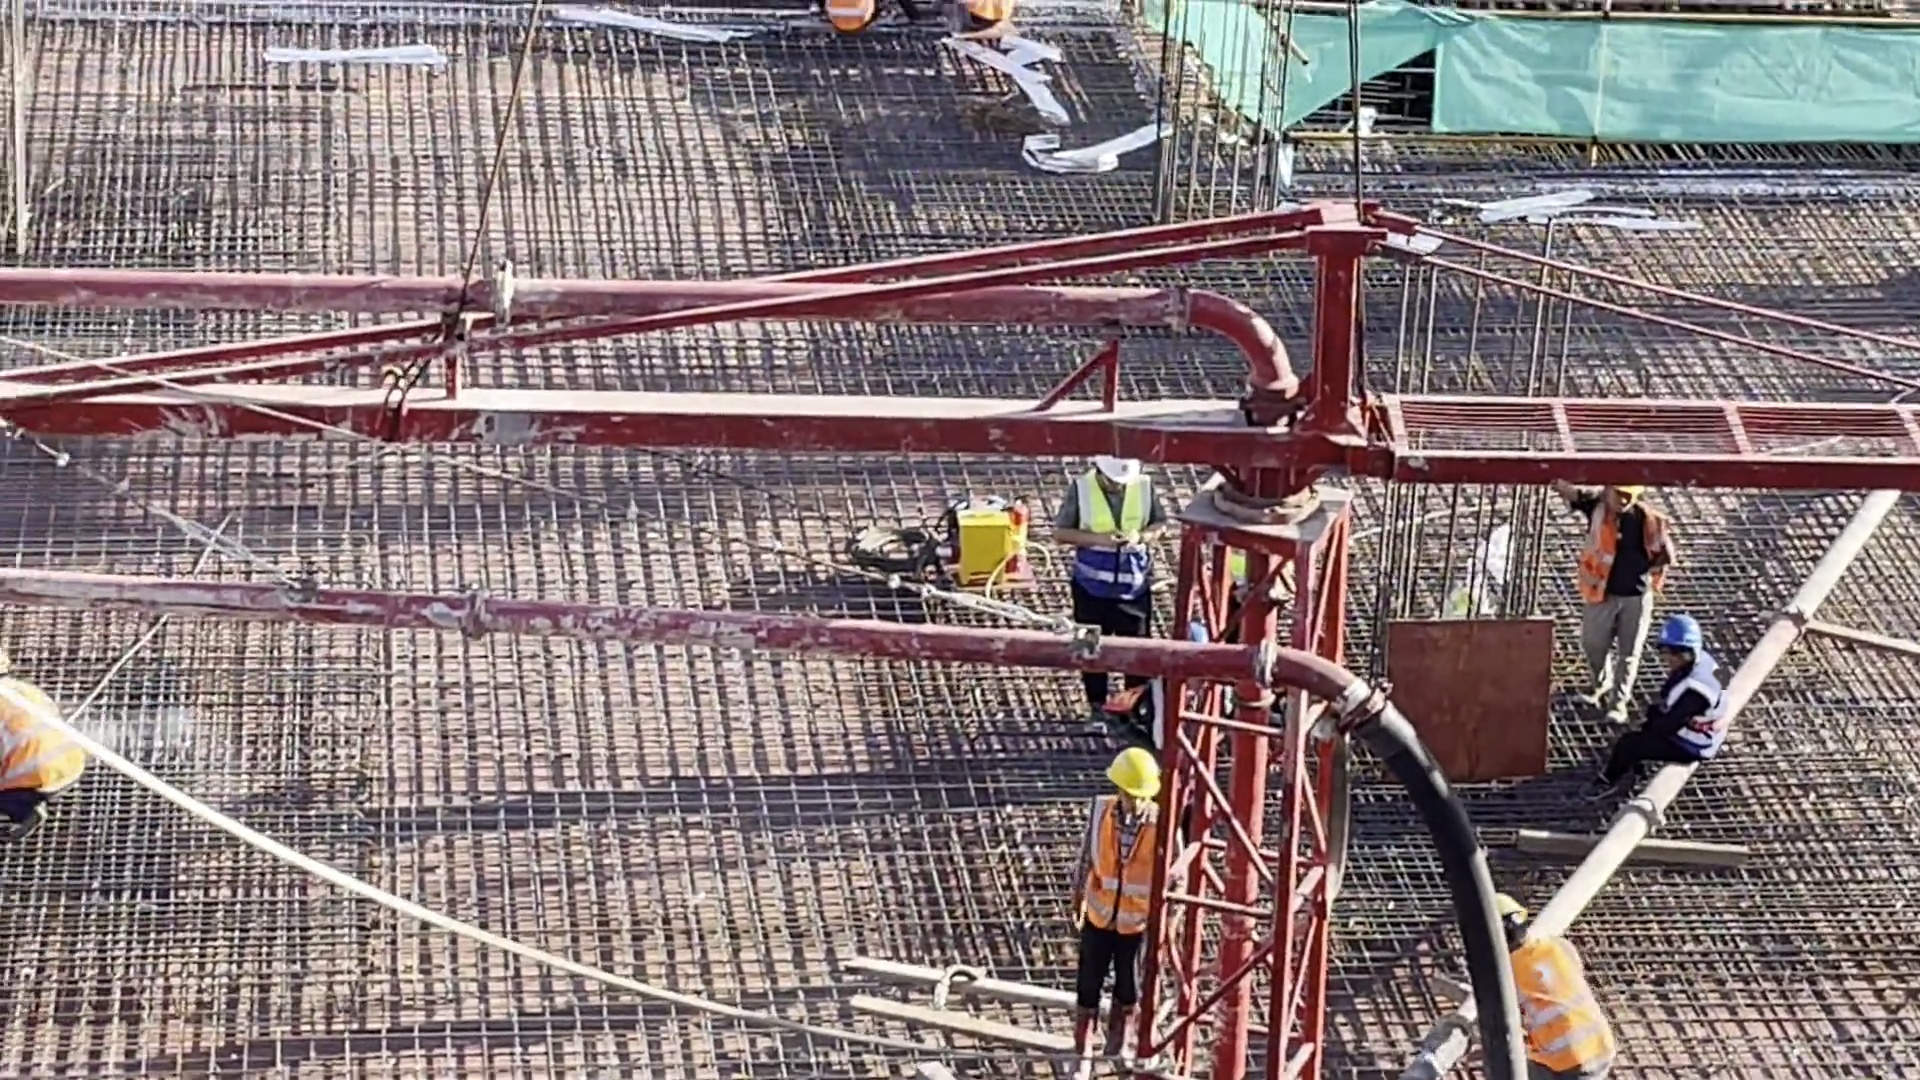helmet: (1108, 753, 1160, 801), (1664, 619, 1704, 649), (1095, 447, 1129, 481), (1604, 475, 1644, 500)
person: (1495, 627, 1730, 795), (1056, 743, 1182, 1048), (1062, 443, 1167, 706), (1555, 472, 1671, 685), (1492, 899, 1594, 1080), (1, 651, 96, 843), (817, 1, 893, 45), (961, 1, 1029, 41)
vest: (1, 668, 83, 807), (1579, 515, 1684, 619), (1074, 476, 1150, 612), (1516, 945, 1591, 1080), (1087, 827, 1159, 933), (1652, 668, 1731, 756), (824, 1, 867, 33), (973, 3, 1011, 35)
